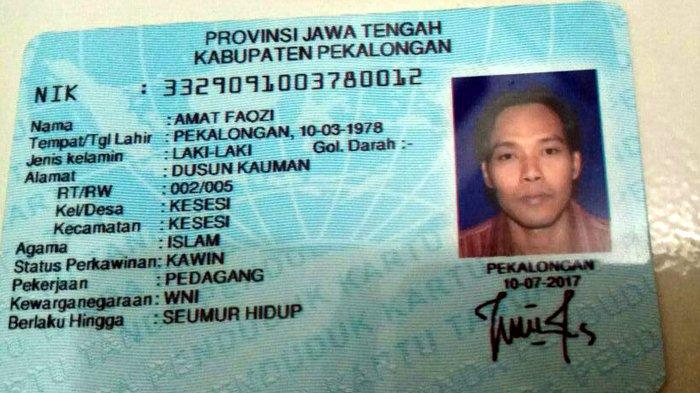ID-card: (0, 5, 665, 390)
